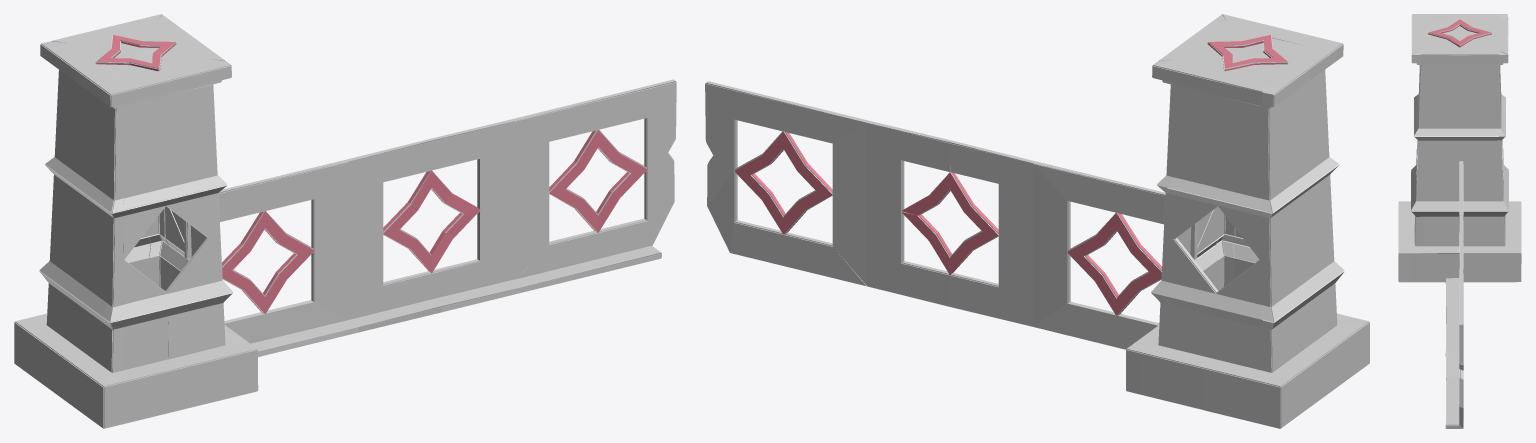
Rendered from ZaborZvezda.fbx.
The picture shows the model from 3 angles, left to right: view 1: azimuth 30°, elevation 25°; view 2: azimuth 150°, elevation 25°; view 3: azimuth 270°, elevation 25°; orthographic projection. The views are drawn at different scales.
Visible parts, largest first — view 1: Cube; view 2: Cube; view 3: Cube.
Boxes of the visible parts, box(x1,y1,x2,y2) form: Cube: box(14, 14, 676, 428); Cube: box(705, 14, 1369, 428); Cube: box(1398, 14, 1521, 428).
Bounding box in the file's own units: 767 × 387 × 193.
